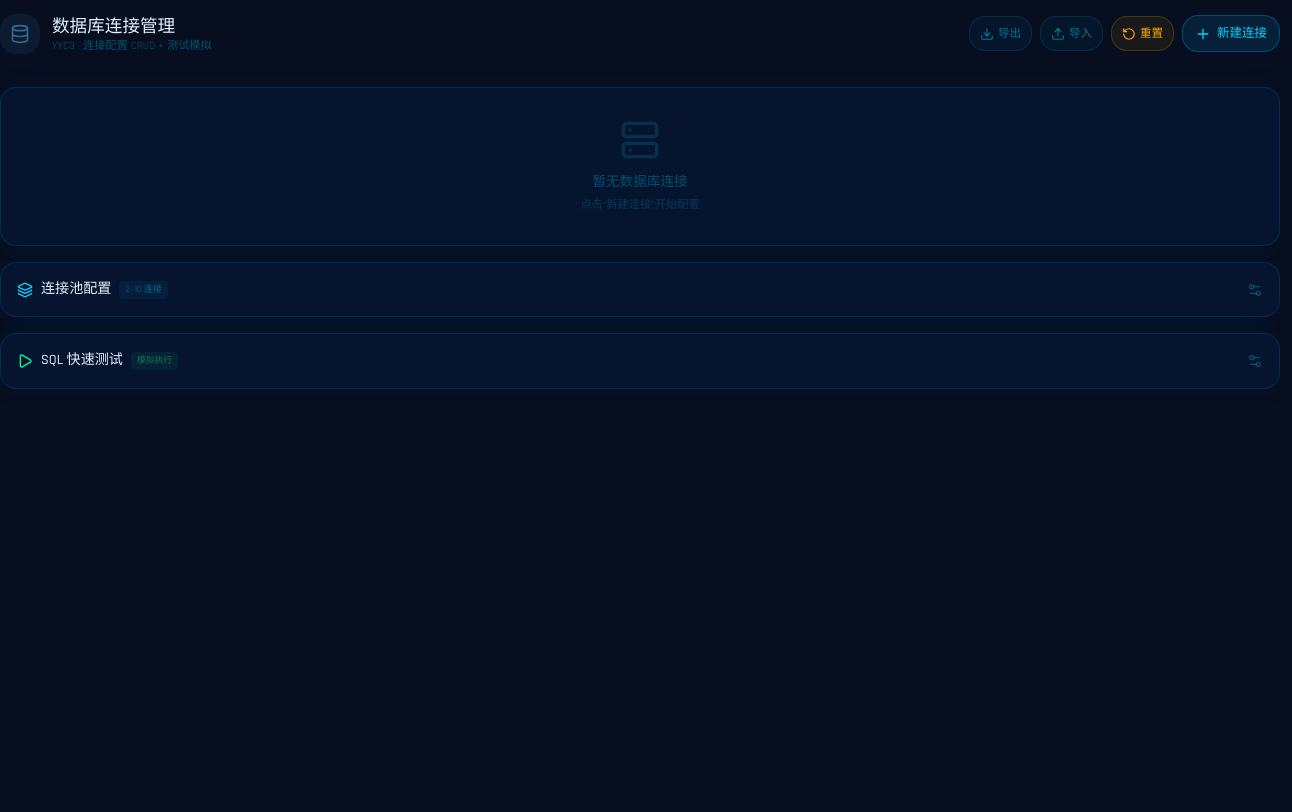
Test case: DatabaseConnectionPanel › 新建连接 › closes add form on cancel
The width and height of the screenshot is (1292, 812).
Click the button with test id "db-new-connection-btn": x=1231, y=34 [1182, 15, 1280, 52]
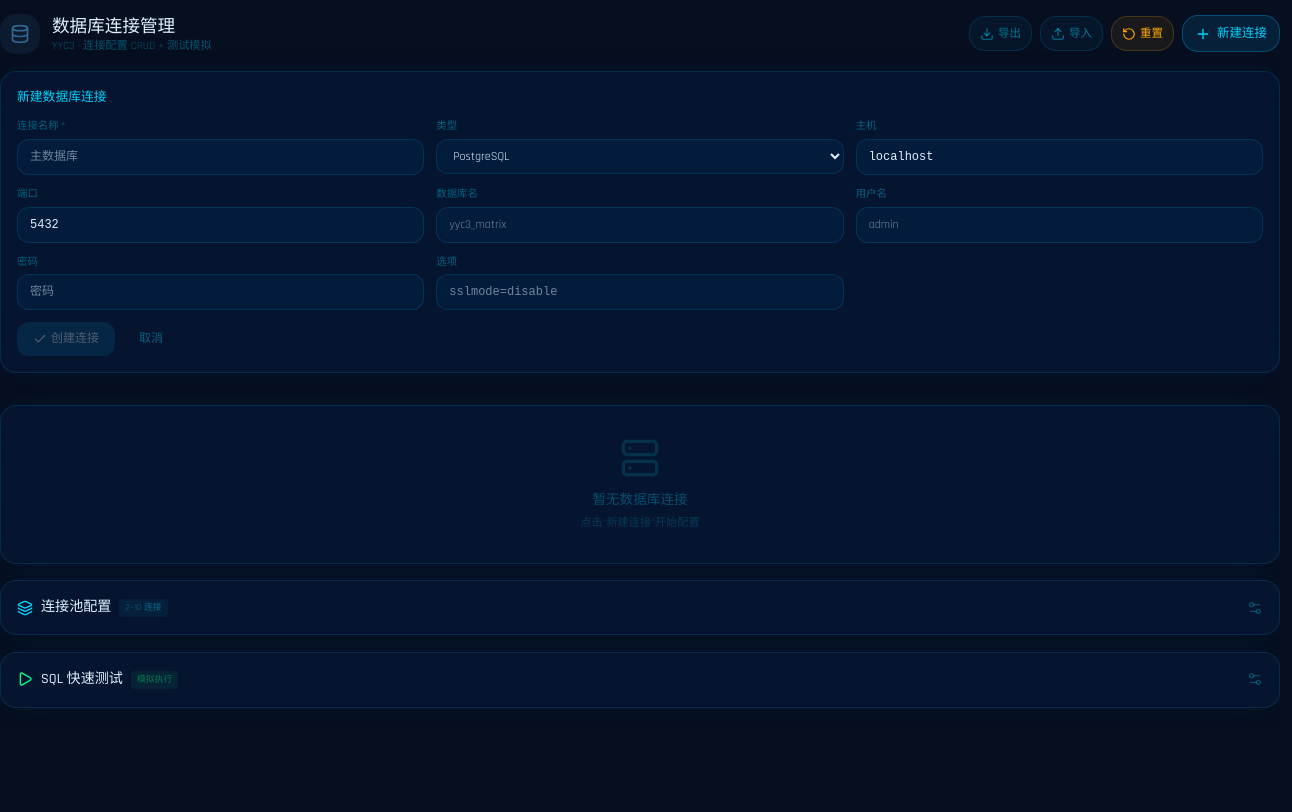
expect the text "新建数据库连接" is shown: met, box [17, 89, 107, 105]
Click the button "取消": x=151, y=339 [123, 322, 179, 356]
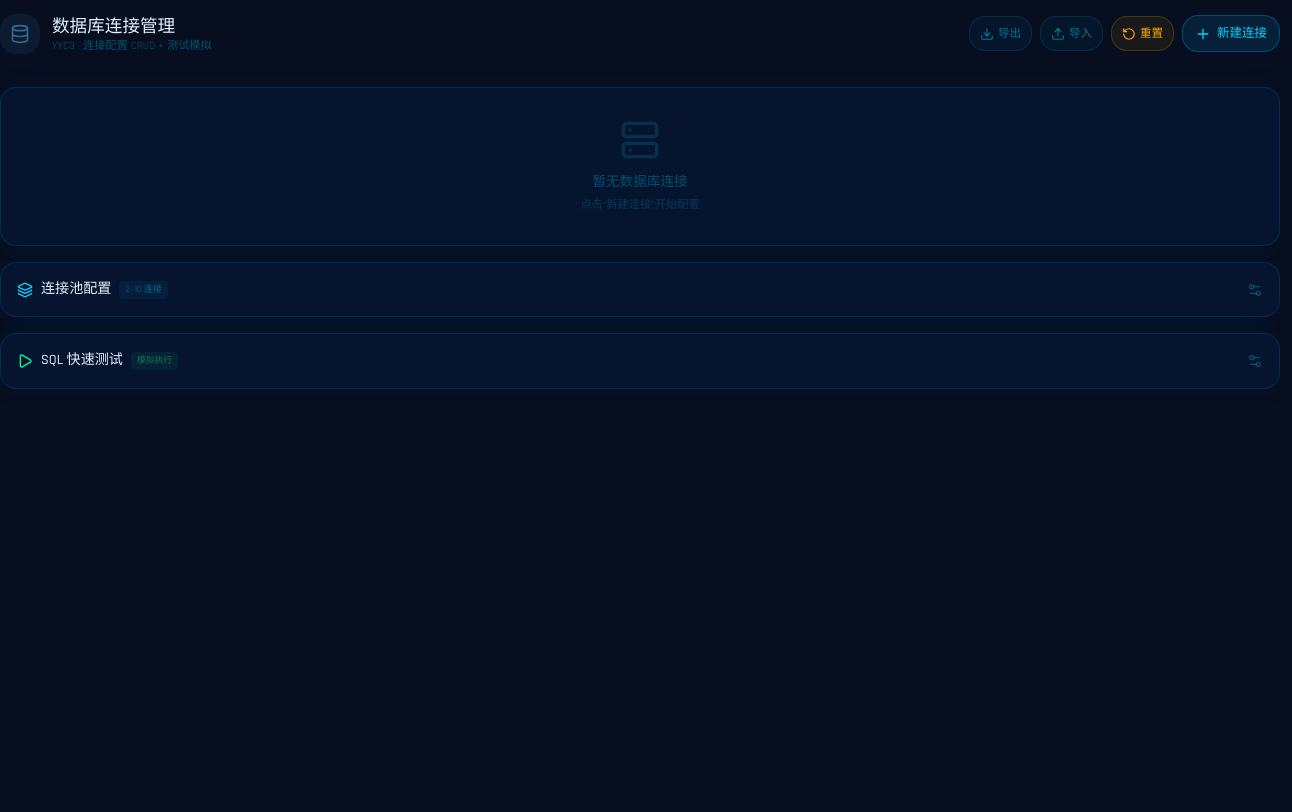
expect the text "新建数据库连接" is gone: met
